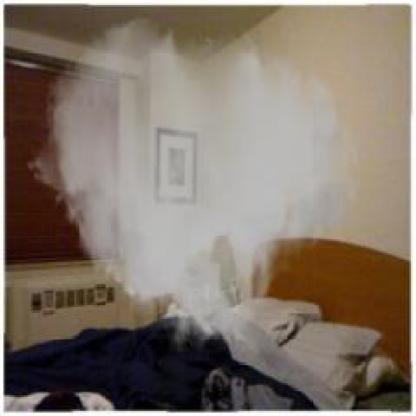Smoke: (26, 15, 362, 363)
